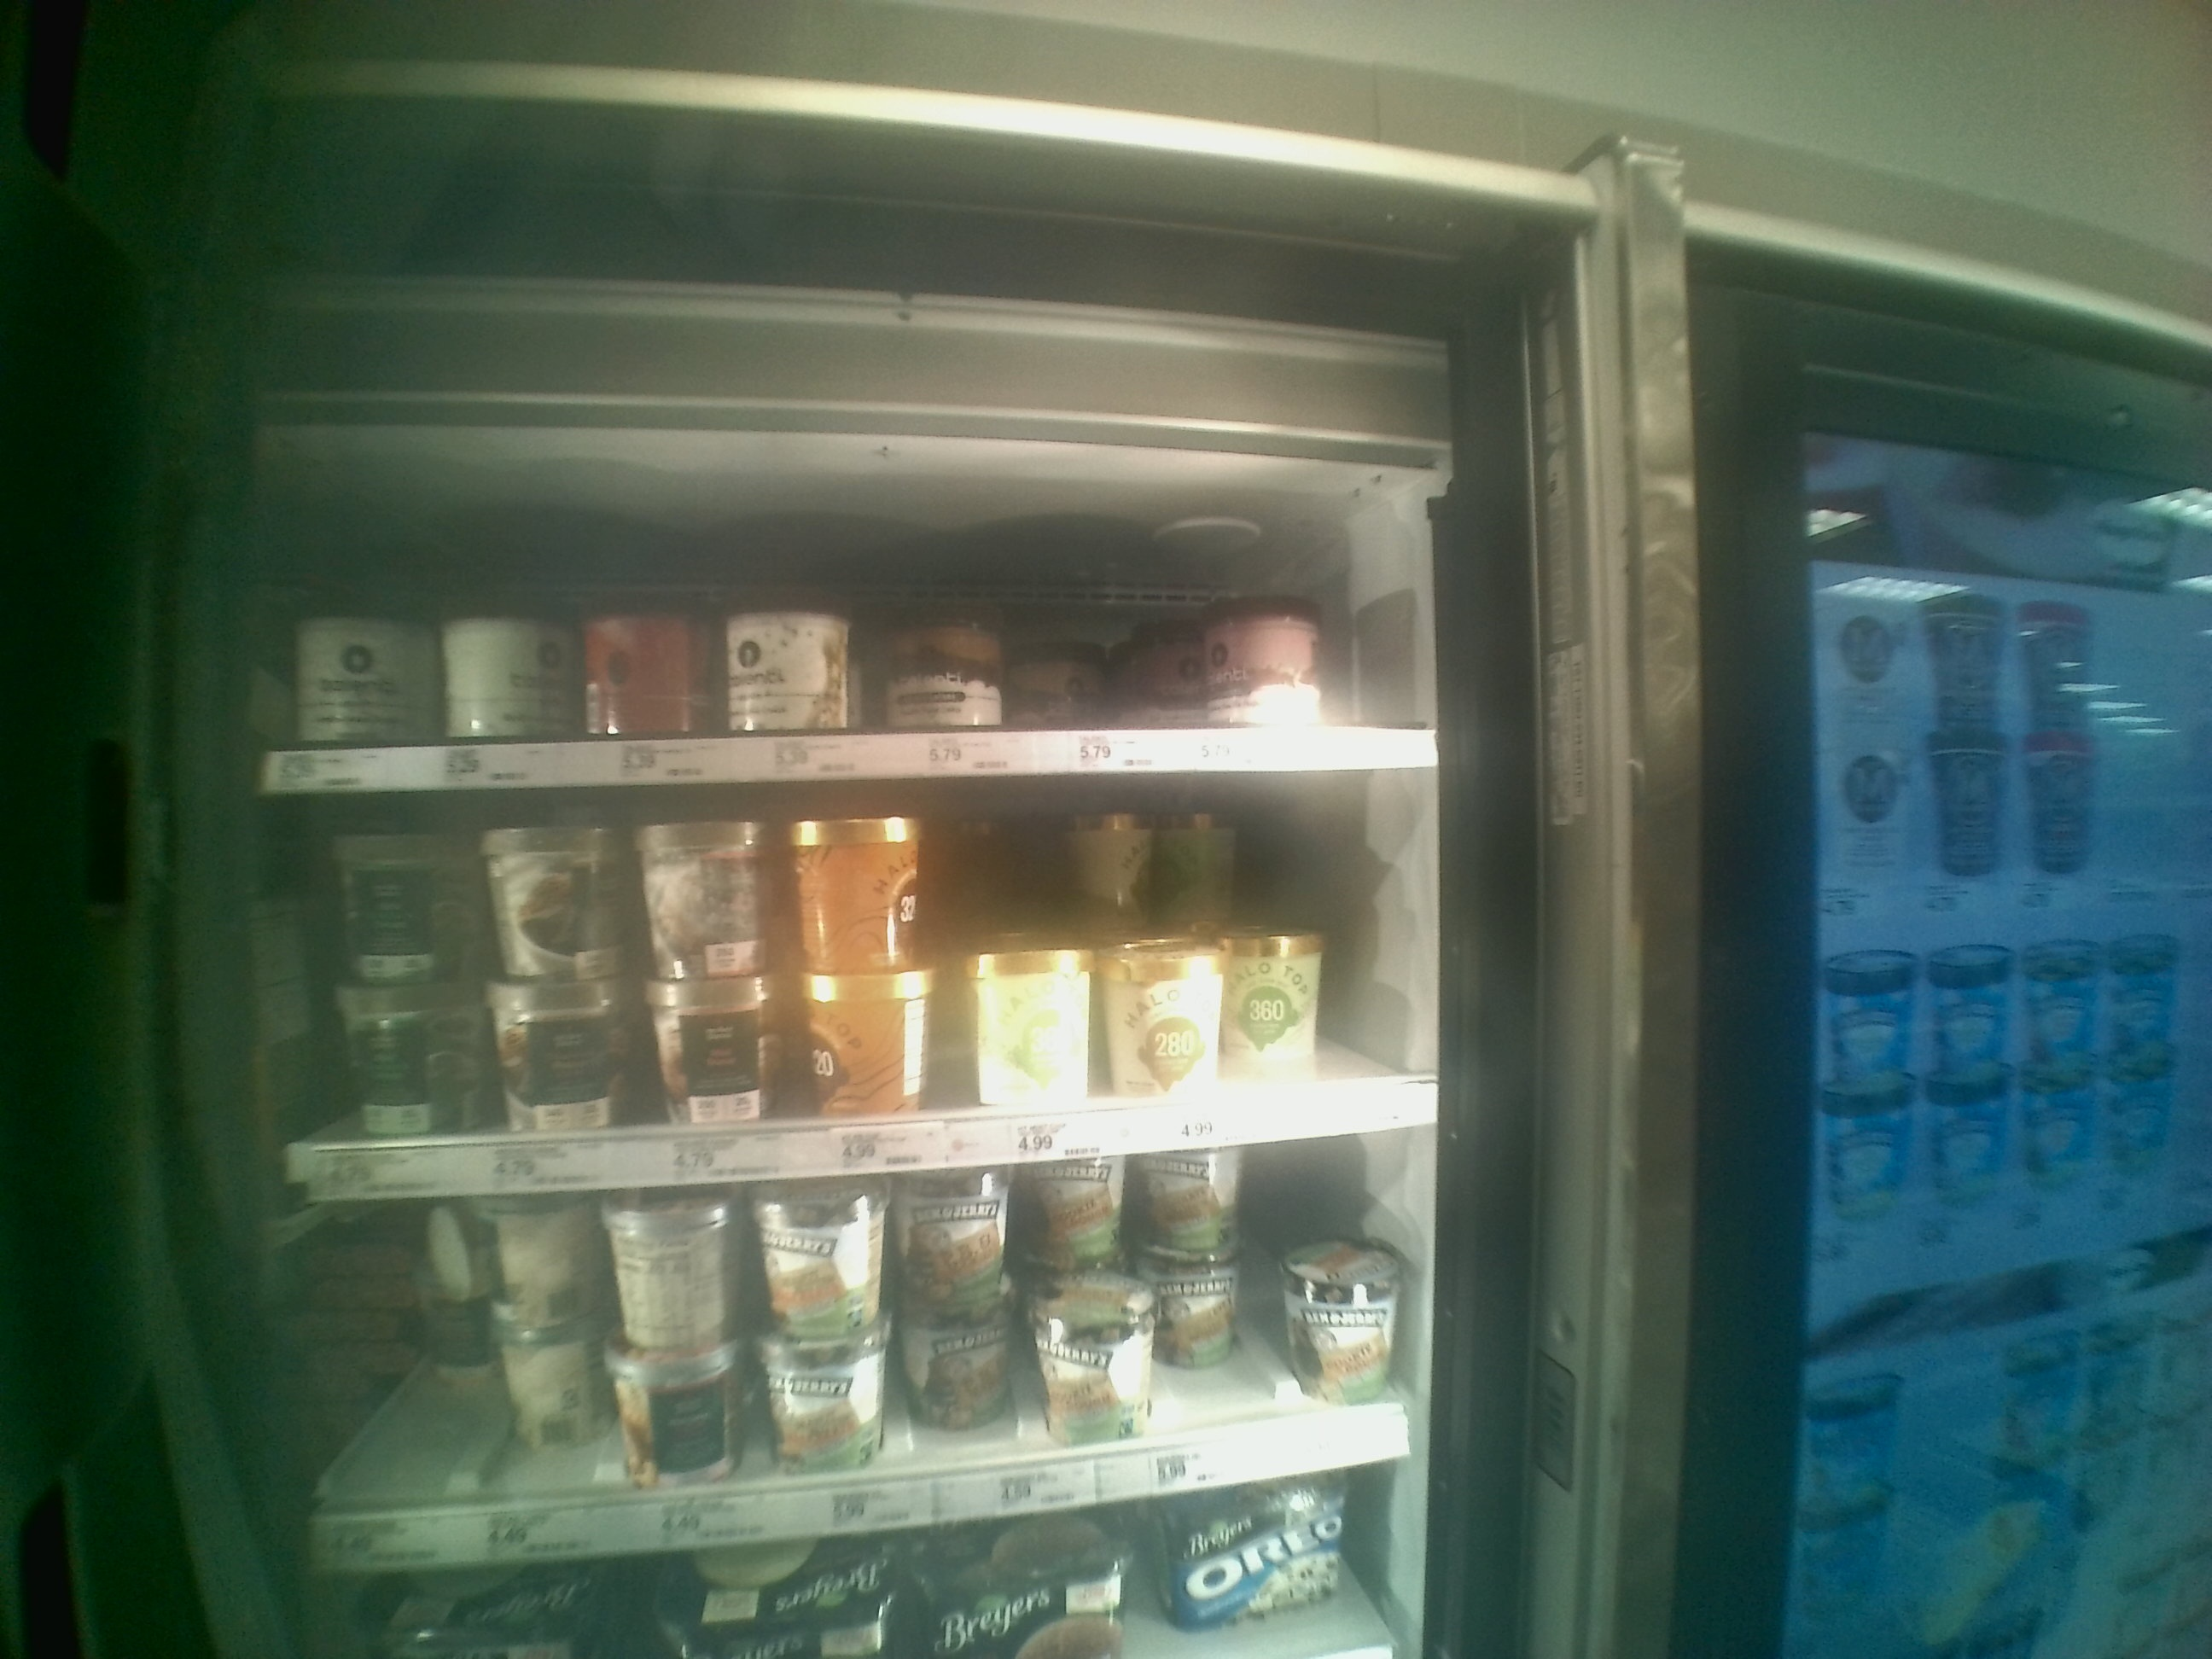shelf: (329, 1173, 1437, 1565), (282, 791, 1444, 1159), (265, 434, 1421, 789)
